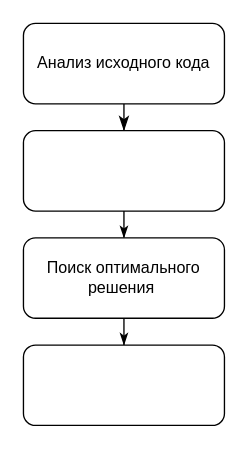
Some shapes in this 248 by 449 pixel diagram are drawn without their labels. The shapes that lost their labels are listed below. From the top down, each one's box as (x1, y1, x2, y2) in pixels, then its label:
(22, 129, 224, 211): Составление представления (скелета) теста
(22, 344, 224, 425): Оптимизация найденного решения
